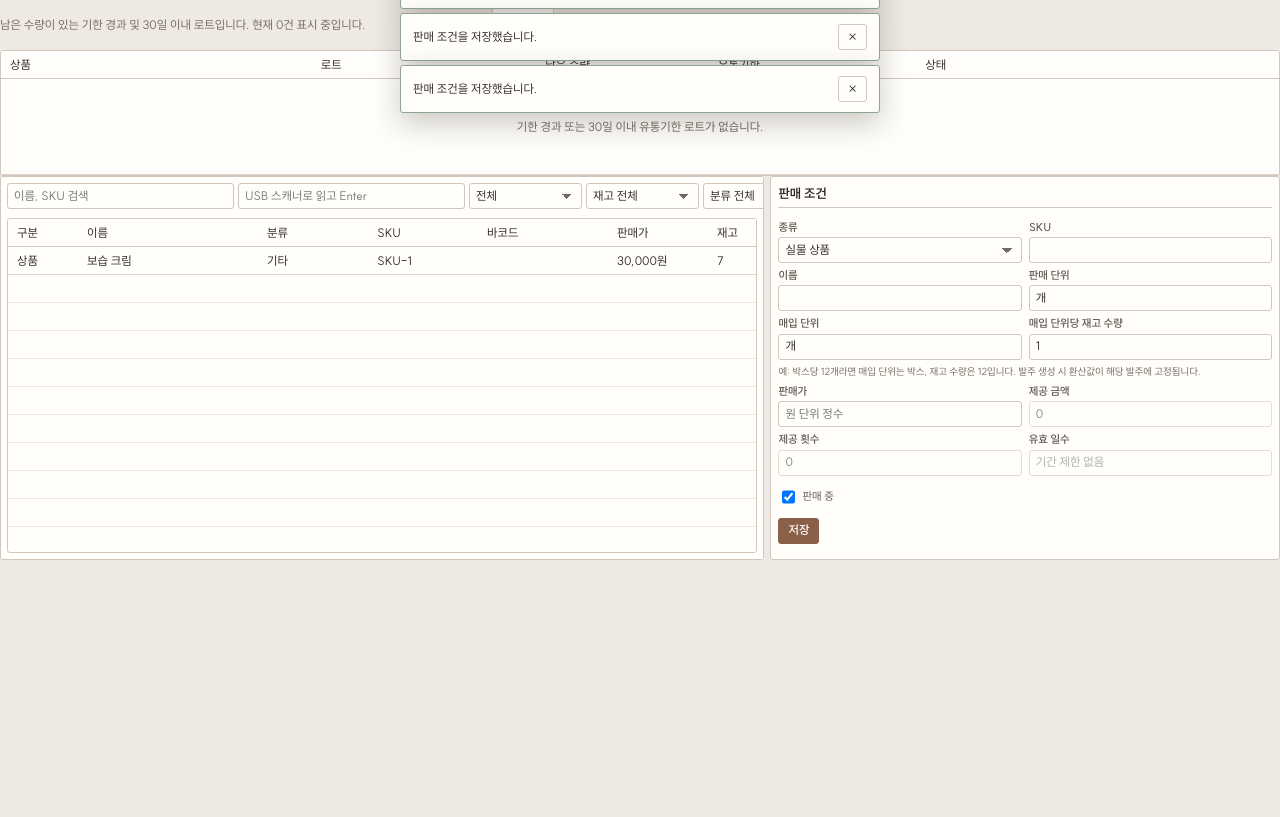
Test: InventoryPage › 입고는 사유와 수량을 검증하고 재고를 갱신한다
The image size is (1280, 817).
Step 1. Click the text "보습 크림" → click(168, 262), box [78,248,258,276]
(page scrolled)
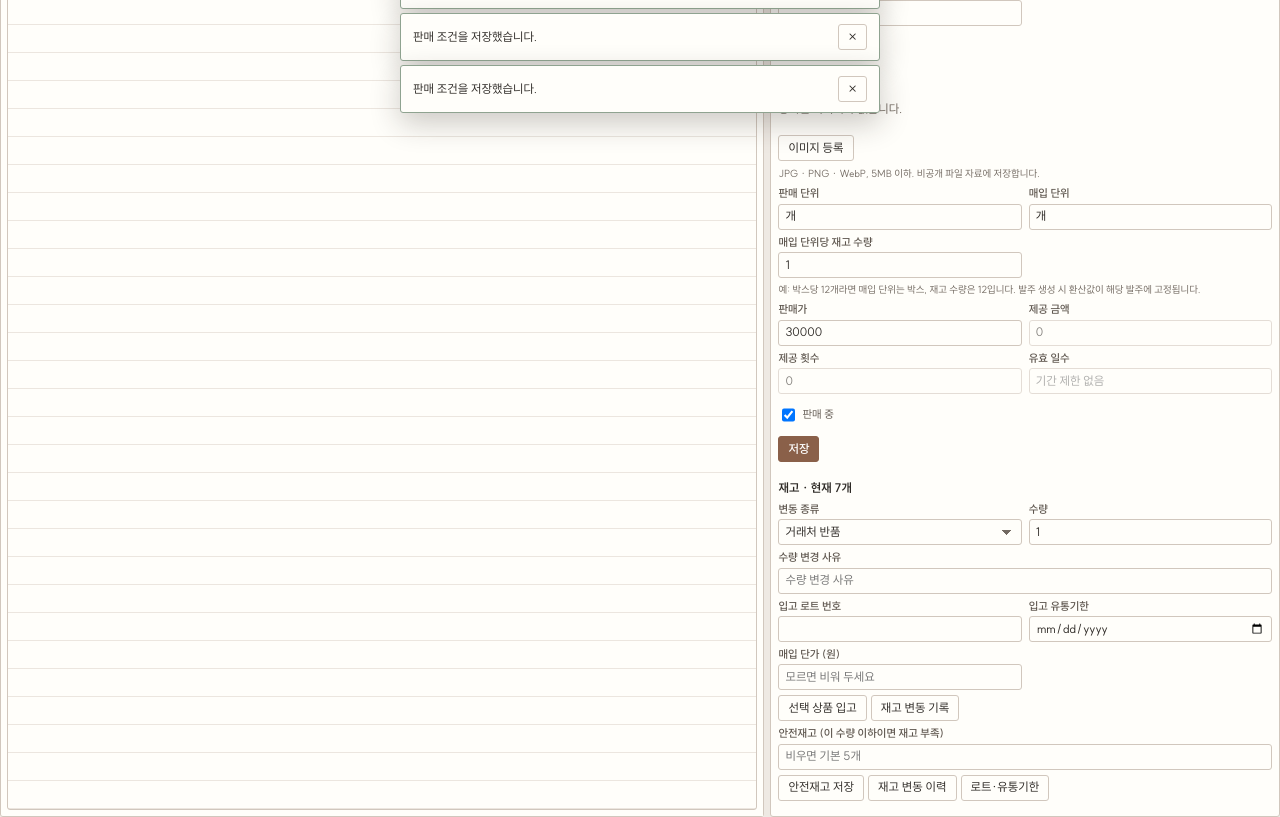
Step 2. Replace the text in the number field labelled "수량" with "3" → (1150, 532), box [1029,519,1272,545]
Step 3. Click the button "선택 상품 입고" → click(823, 708), box [778,695,867,721]
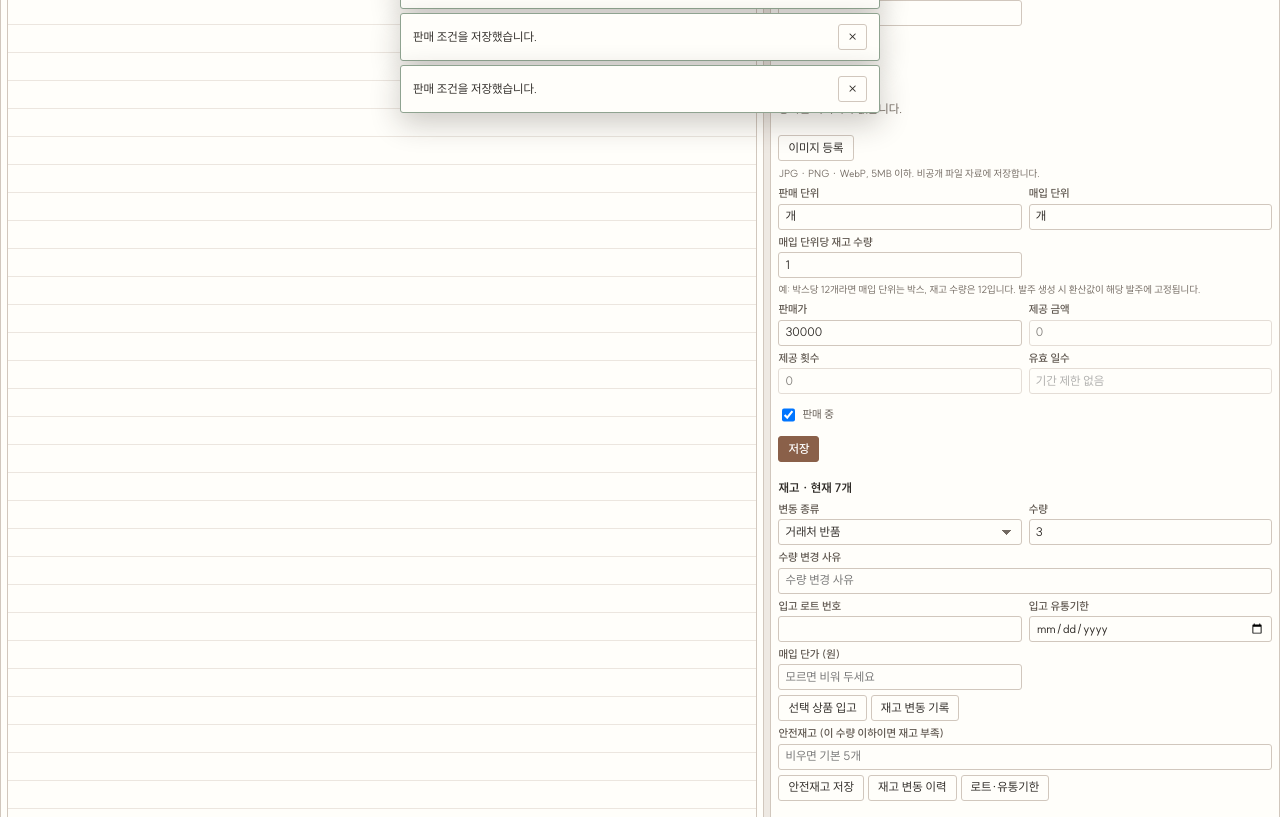
Step 4. Type " 신규 입고 " into the field labelled "수량 변경 사유" → (1025, 580), box [778,568,1272,594]
Step 5. Type "LOT-7" into the field labelled "입고 로트 번호" → (900, 629), box [778,616,1022,642]
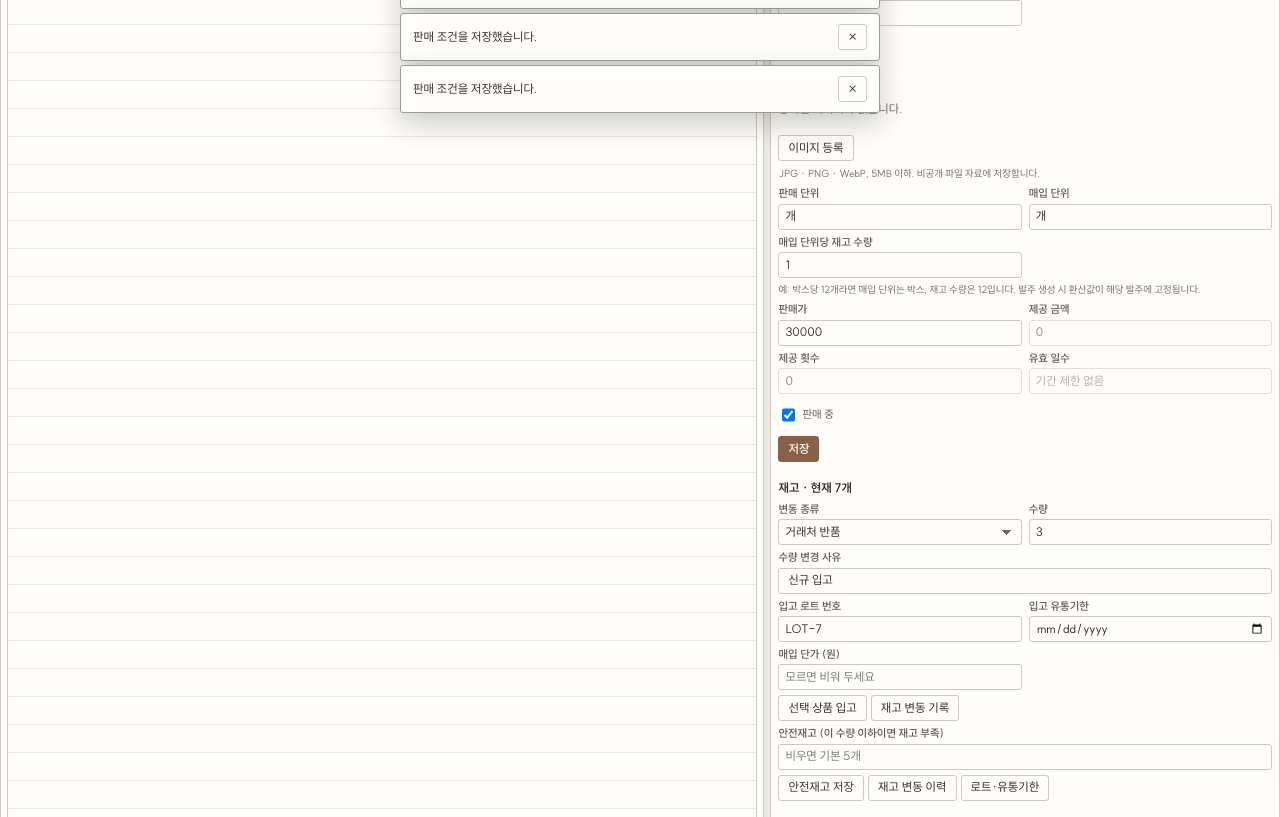
Step 6. Type "2026-12-31" into the date field labelled "입고 유통기한" → (1150, 629), box [1029,616,1272,642]
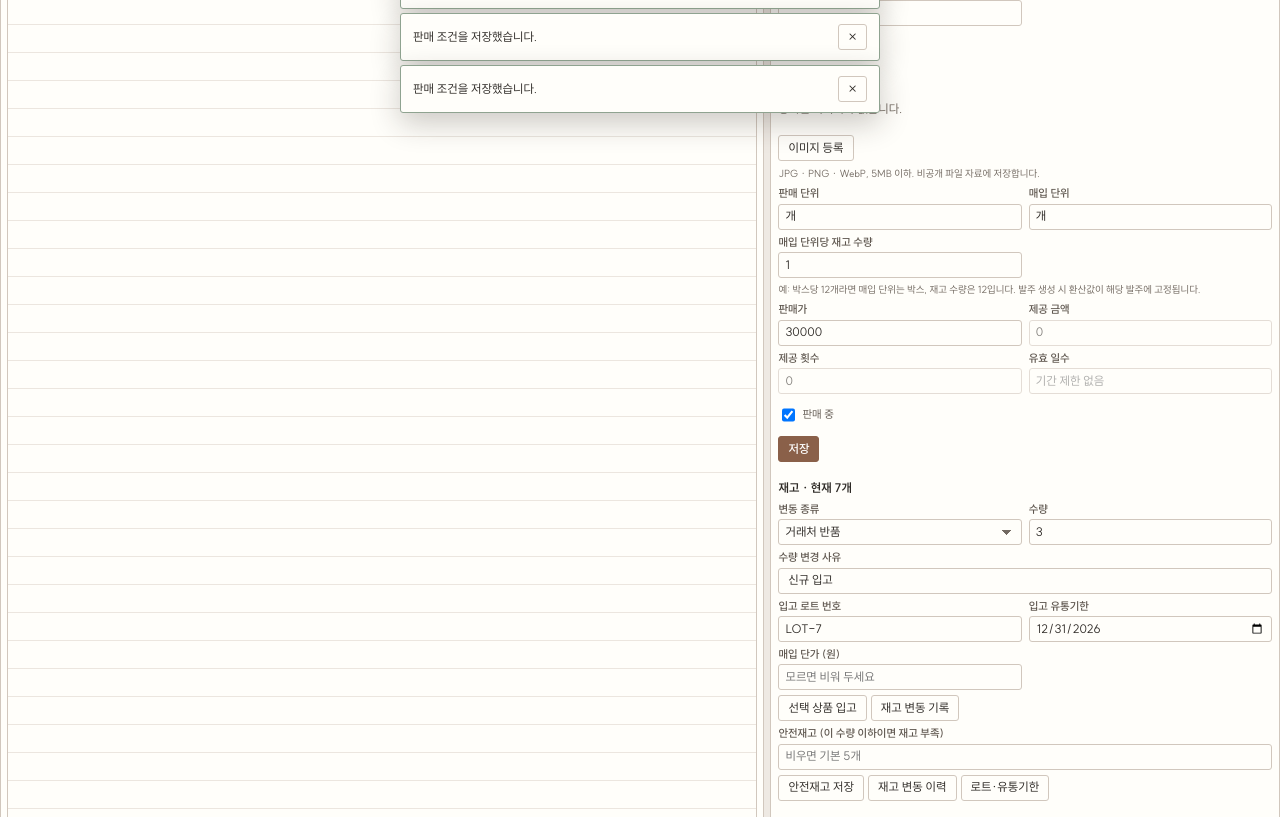
Step 7. Type "1200" into the field named "입고 매입 단가" → (900, 677), box [778,664,1022,690]
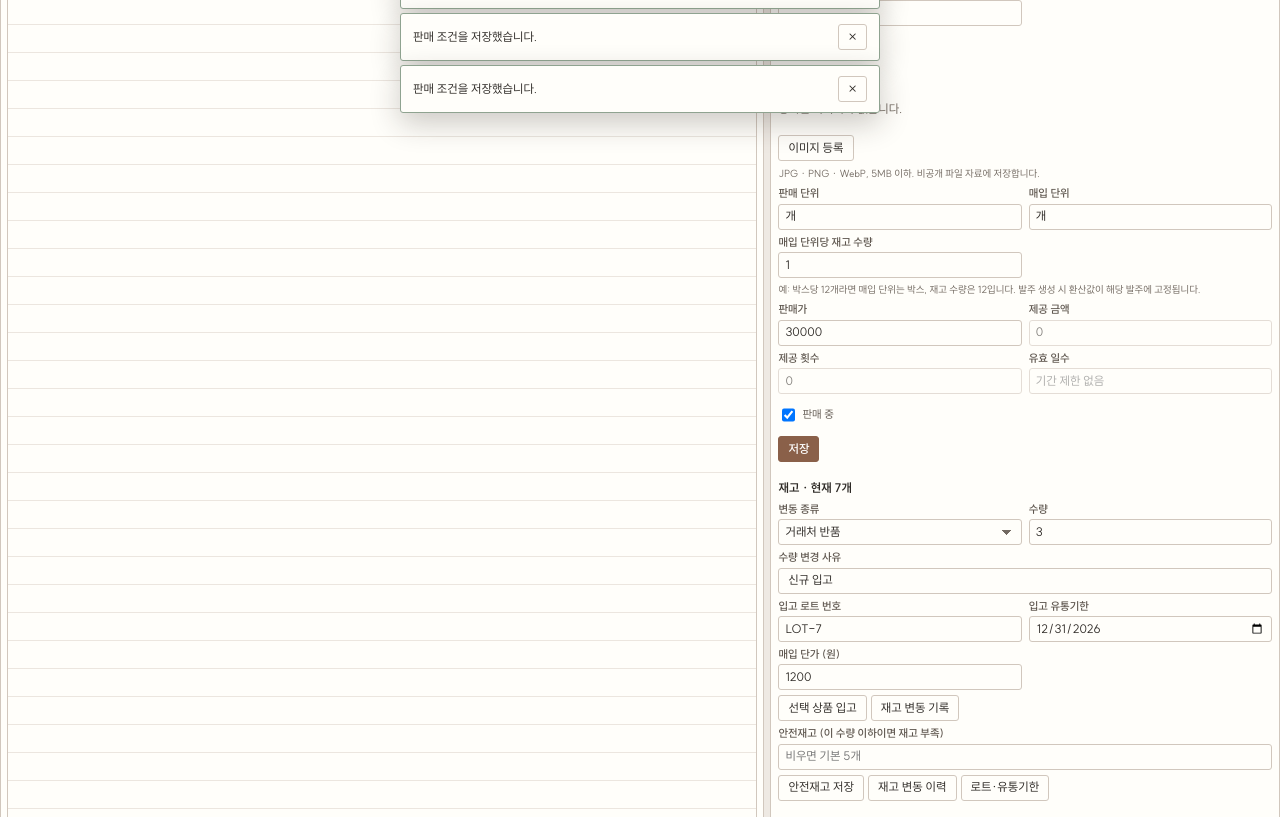
Step 8. Click the button "선택 상품 입고" → click(823, 708), box [778,695,867,721]
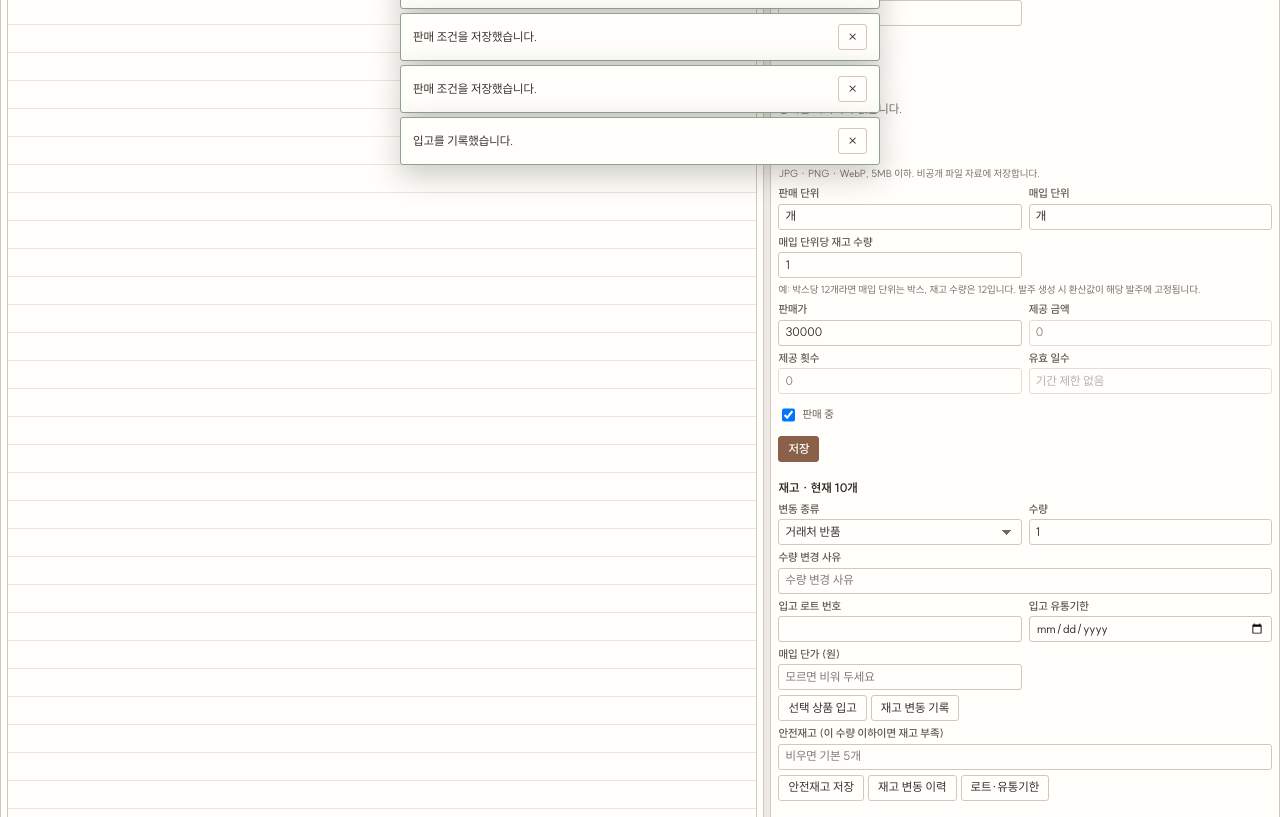
expect the heading "재고 · 현재 10개" is shown: met, box [778,480,858,495]
